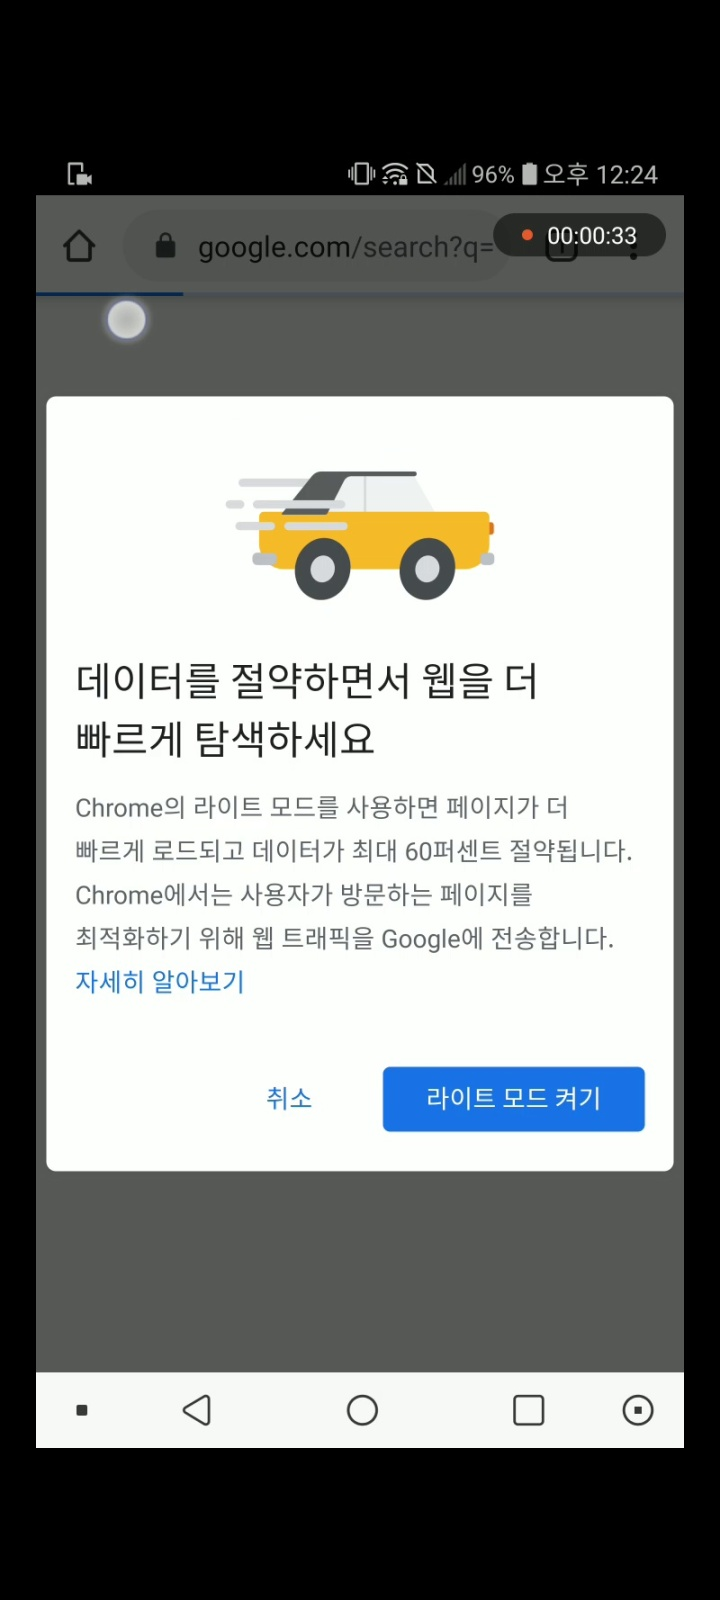Cursor: (106, 298, 151, 343)
